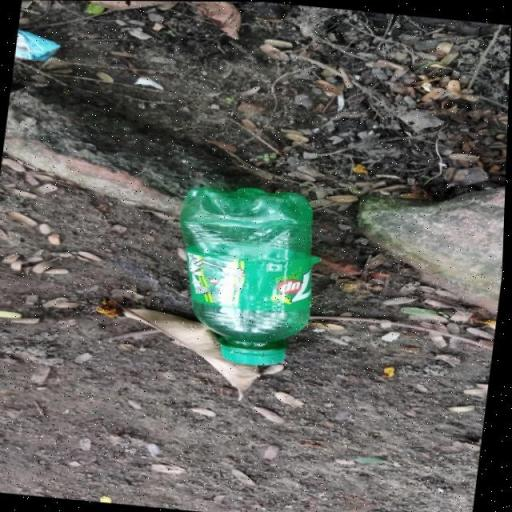plastic: (162, 180, 328, 371)
